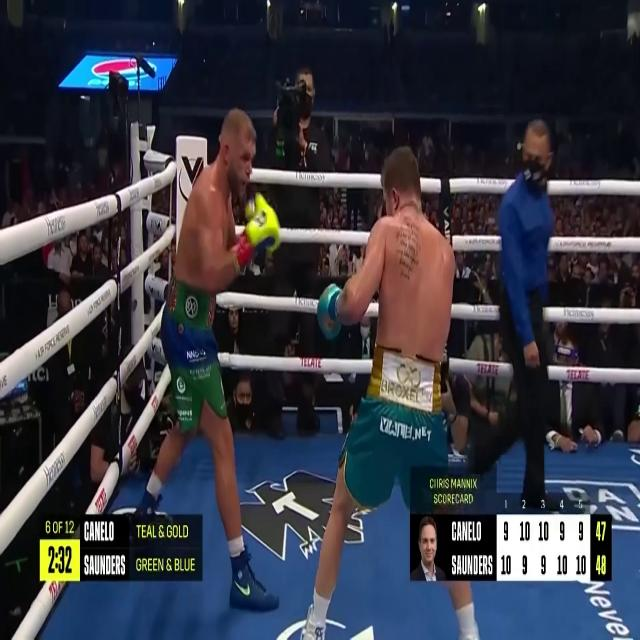boxer_1: (171, 110, 258, 295)
boxer_2: (376, 144, 457, 363)
gloves_1: (237, 192, 280, 267)
gloves_2: (313, 283, 341, 340)
